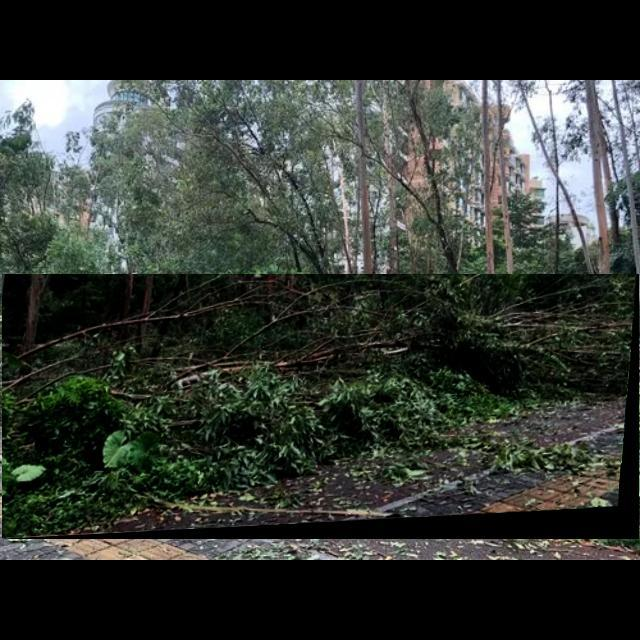fallen_tree: (2, 274, 640, 540)
